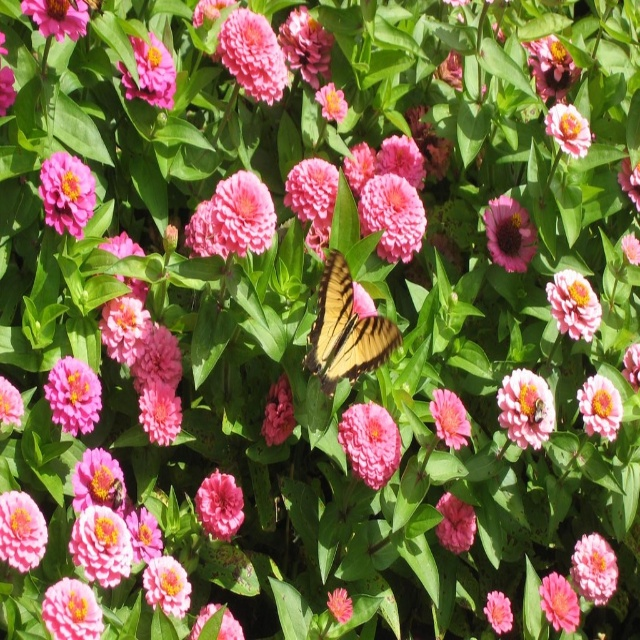Butterfly: (302, 248, 404, 400)
